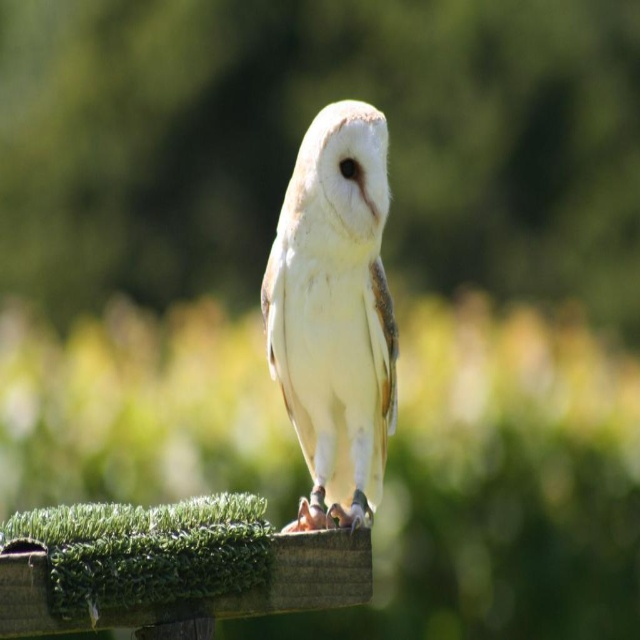Owl: (257, 97, 401, 533)
